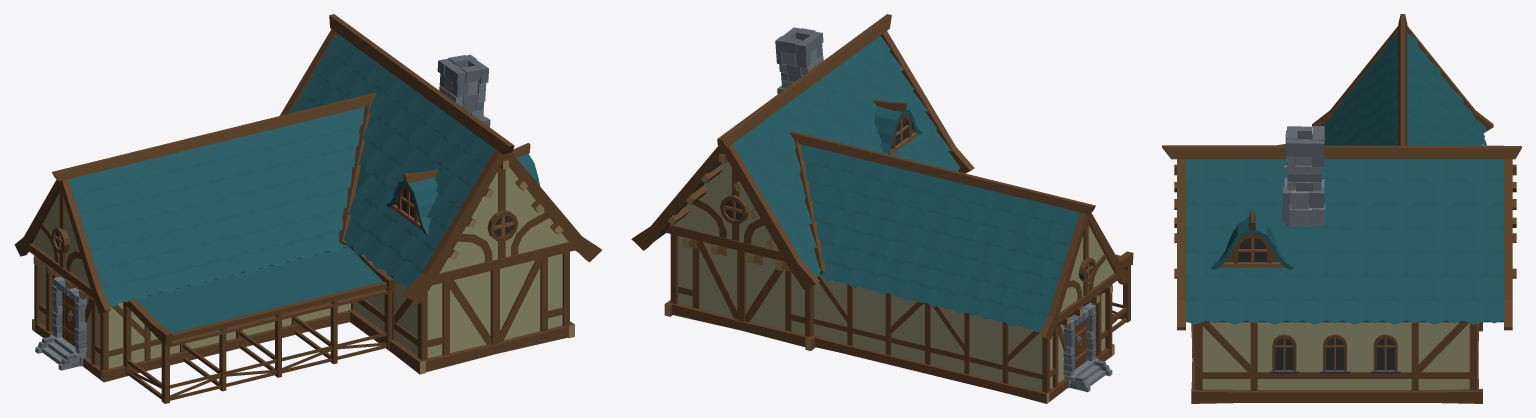
Rendered from q-fantasy-stable-qhnqsoggbi.glb.
3 renders of one model, left to right at view 1: azimuth 30°, elevation 25°; view 2: azimuth 150°, elevation 25°; view 3: azimuth 270°, elevation 25°, orthographic. The views are drawn at different scales.
Parts seen in each view (by area): view 1: Stable; view 2: Stable; view 3: Stable.
Boxes of the visible parts, box(x1,y1,x2,y2) form: Stable: box(14, 14, 601, 403); Stable: box(631, 14, 1133, 403); Stable: box(1162, 14, 1521, 403).
Bounding box in the file's own units: 4.7 × 2.49 × 3.33.
